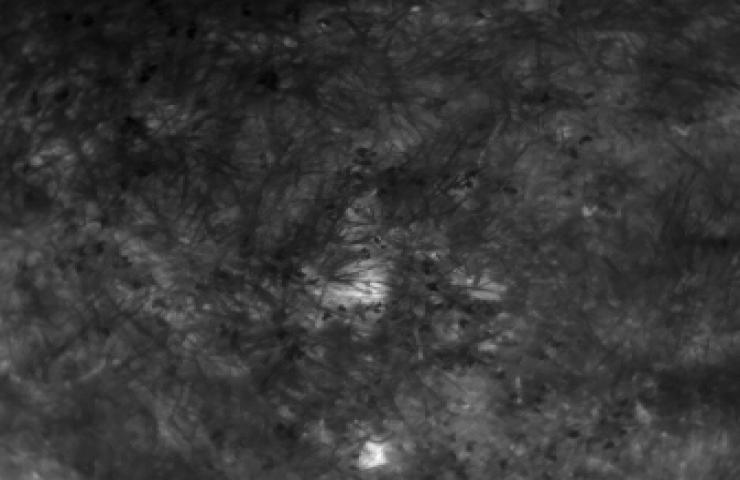landmines: (314, 264, 392, 308)
